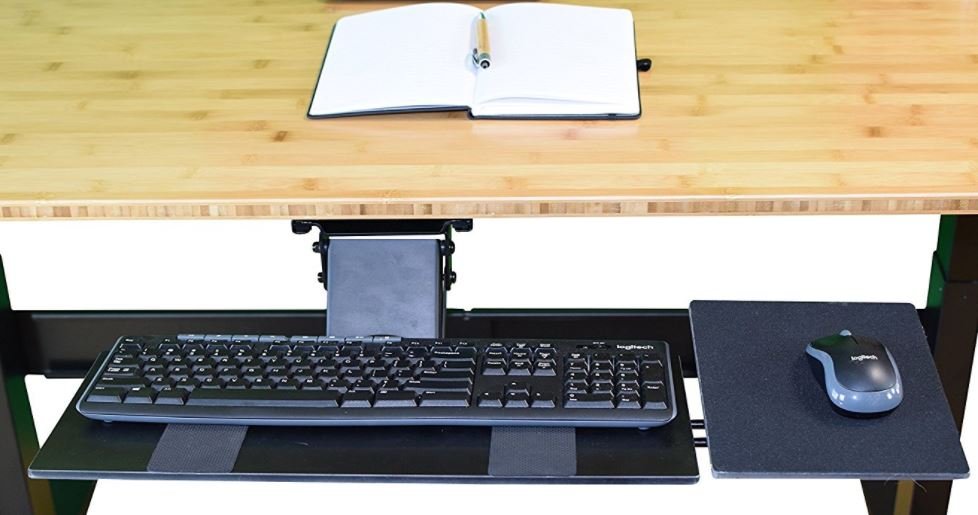keyboard: (70, 328, 687, 438)
mouse: (795, 323, 915, 426)
